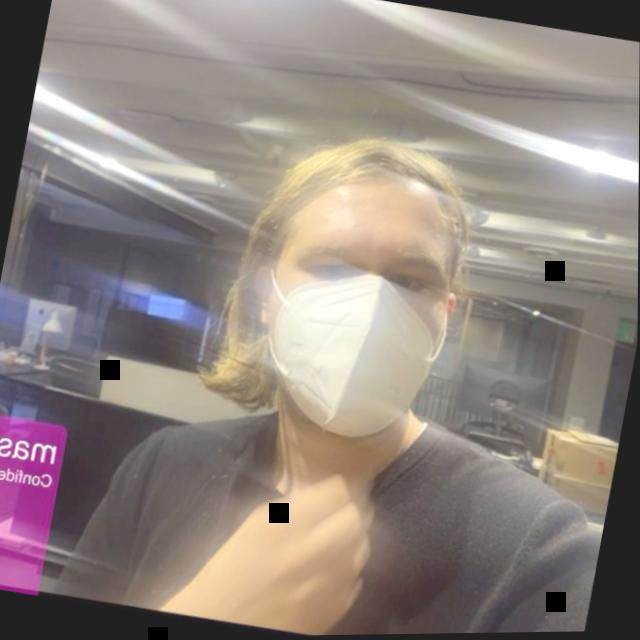Mask: (201, 88, 512, 461)
